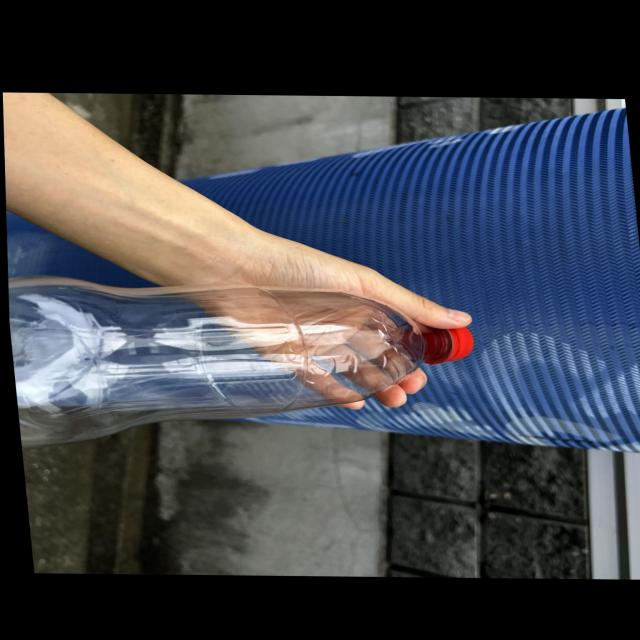empty: (9, 277, 473, 446)
